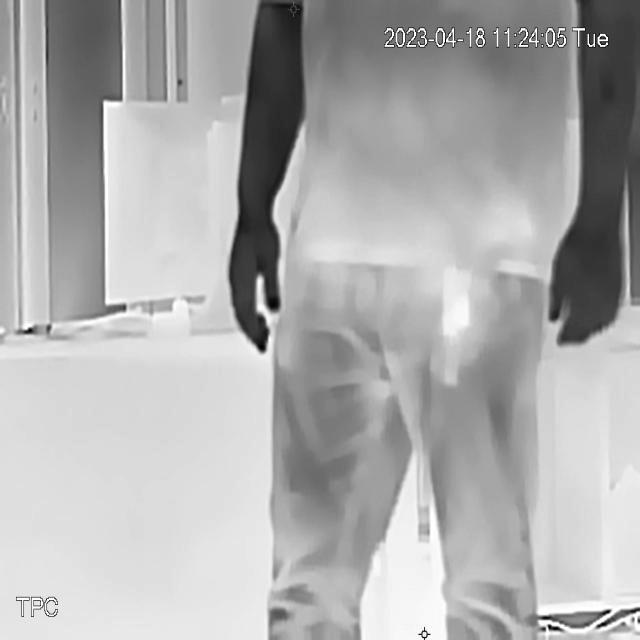Weapon: (412, 213, 544, 394)
